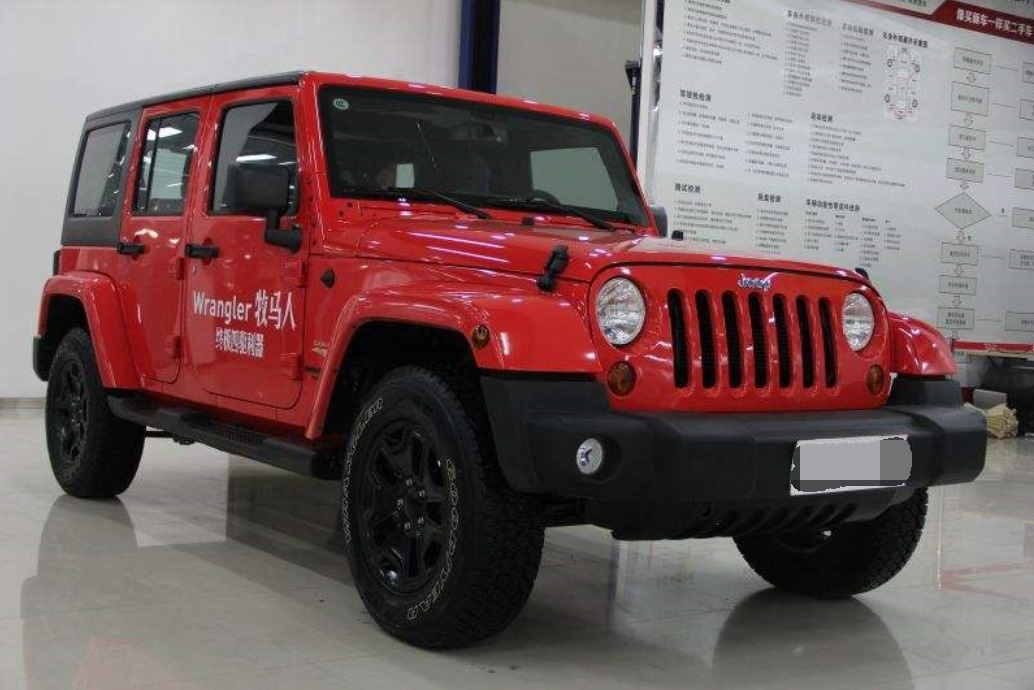jeep: (41, 66, 985, 655)
